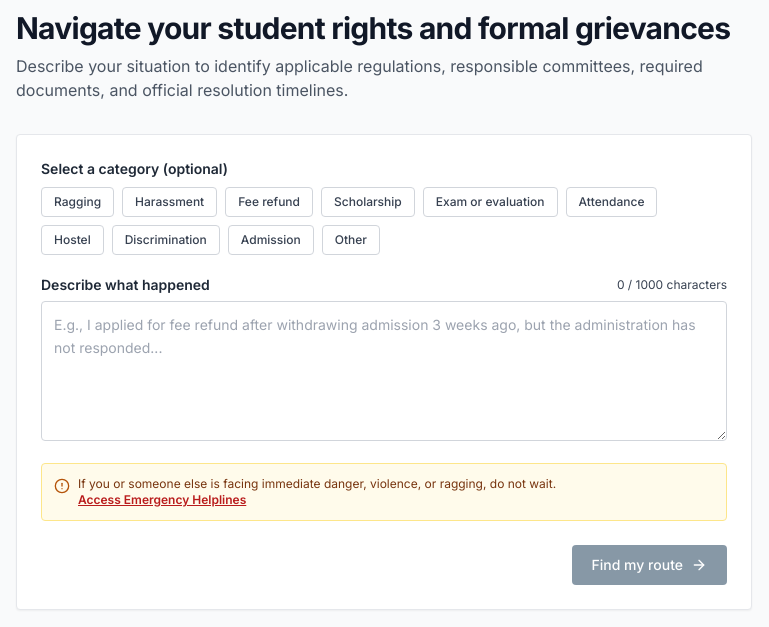
Step 2: Home and Answer Pages › enforces 1000-character limit and shows character count on Home page
The width and height of the screenshot is (769, 627).
Replace the text in the text box labelled "Describe what happened" with "Hello" at (384, 371), box [41, 301, 727, 441]
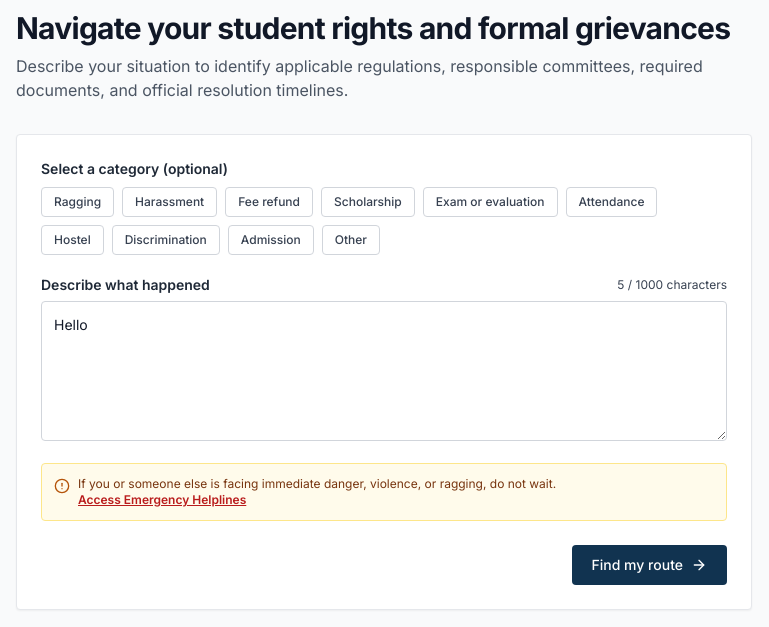
expect the text "5 / 1000 characters" is shown: met, box [617, 277, 727, 293]
